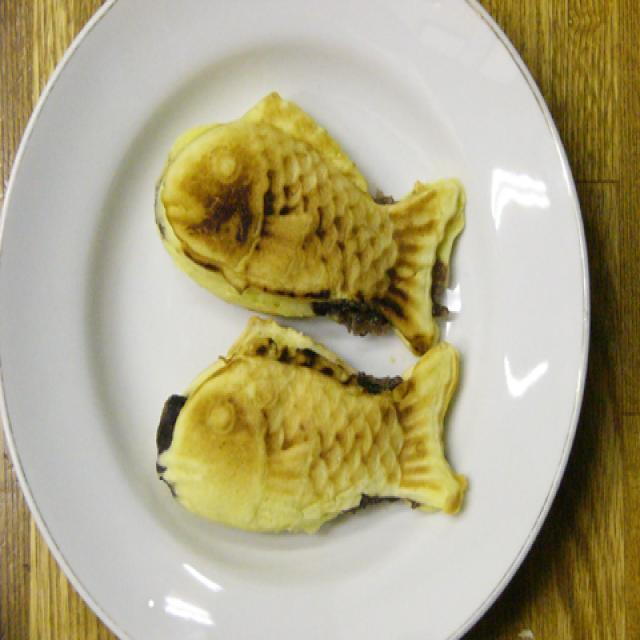熟制海鲜: (144, 82, 476, 533)
